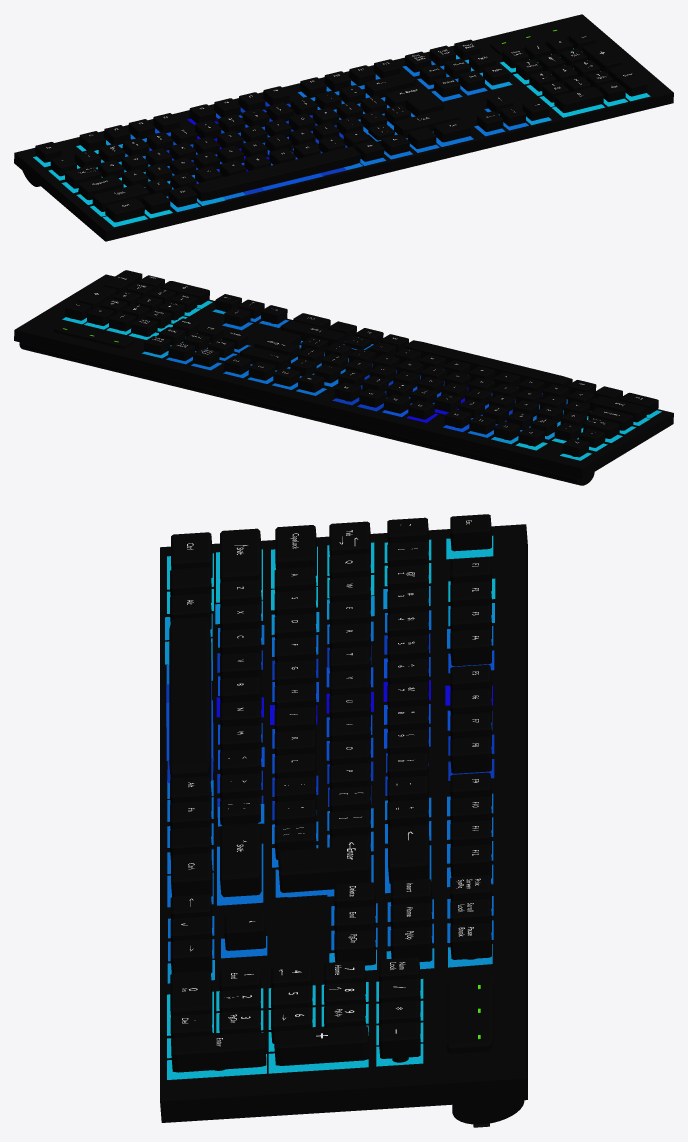
The model's file is keyboard.glb.
3 views of the same model, one above another, from view 1: azimuth 30°, elevation 25°; view 2: azimuth 150°, elevation 25°; view 3: azimuth 270°, elevation 25° (orthographic). The views are drawn at different scales.
Parts seen in each view (by area): view 1: Cube_0_87, Cube.006_6_11, Cube.007_7_13, Cube.008_8_15, Cube.009_9_17, Cube.016_16_31, Cube.002_2_3, Cube.004_4_7, Cube.003_3_5, Cube.032_31_63, Cube.011_11_21, Cube.013_13_25 (+27 smaller); view 2: Cube_0_87, Cube.006_6_11, Cylinder.032_69_151, Cube.007_7_13, Cube.008_8_15, Cube.009_9_17, Cube.016_16_31, Cube.003_3_5, Cube.004_4_7, Cube.002_2_3, Cube.032_31_63, Cube.005_5_9 (+20 smaller); view 3: Cube_0_87, Cube.006_6_11, Cube.008_8_15, Cube.007_7_13, Cube.009_9_17, Cube.016_16_31, Cube.002_2_3, Cube.003_3_5, Cube.004_4_7, Cube.027_27_53, Cube.032_31_63, Cube.036_36_71 (+27 smaller).
Part boxes in pixels (bbox=[...]): Cube_0_87: bbox=[14, 14, 673, 241]; Cube.006_6_11: bbox=[50, 85, 365, 176]; Cube.007_7_13: bbox=[97, 95, 386, 178]; Cube.008_8_15: bbox=[121, 105, 410, 186]; Cube.009_9_17: bbox=[145, 124, 394, 196]; Cube.016_16_31: bbox=[192, 146, 360, 201]; Cube.002_2_3: bbox=[79, 113, 179, 150]; Cube.004_4_7: bbox=[300, 59, 400, 97]; Cube.003_3_5: bbox=[189, 86, 289, 123]; Cube.032_31_63: bbox=[502, 31, 595, 68]; Cube.011_11_21: bbox=[433, 64, 509, 97]; Cube.013_13_25: bbox=[476, 100, 548, 131]; Cube_0_87: bbox=[14, 274, 673, 479]; Cube.006_6_11: bbox=[290, 358, 605, 447]; Cylinder.032_69_151: bbox=[19, 342, 594, 485]; Cube.007_7_13: bbox=[298, 348, 587, 428]; Cube.008_8_15: bbox=[301, 337, 590, 416]; Cube.009_9_17: bbox=[345, 336, 594, 404]; Cube.016_16_31: bbox=[404, 340, 572, 388]; Cube.003_3_5: bbox=[334, 382, 434, 419]; Cube.004_4_7: bbox=[224, 355, 324, 392]; Cube.002_2_3: bbox=[444, 409, 544, 446]; Cube.032_31_63: bbox=[64, 301, 157, 336]; Cube.005_5_9: bbox=[143, 336, 219, 367]; Cube_0_87: bbox=[160, 524, 527, 1122]; Cube.006_6_11: bbox=[387, 517, 428, 831]; Cube.008_8_15: bbox=[274, 567, 316, 859]; Cube.007_7_13: bbox=[329, 553, 370, 843]; Cube.009_9_17: bbox=[220, 580, 261, 830]; Cube.016_16_31: bbox=[169, 617, 211, 781]; Cube.002_2_3: bbox=[450, 557, 491, 666]; Cube.003_3_5: bbox=[450, 664, 491, 773]; Cube.004_4_7: bbox=[450, 772, 491, 878]; Cube.027_27_53: bbox=[278, 834, 371, 892]; Cube.032_31_63: bbox=[379, 957, 420, 1058]; Cube.036_36_71: bbox=[446, 976, 492, 1053].
Bounding box in the file's own units: 5.93 × 0.3792 × 1.66.
